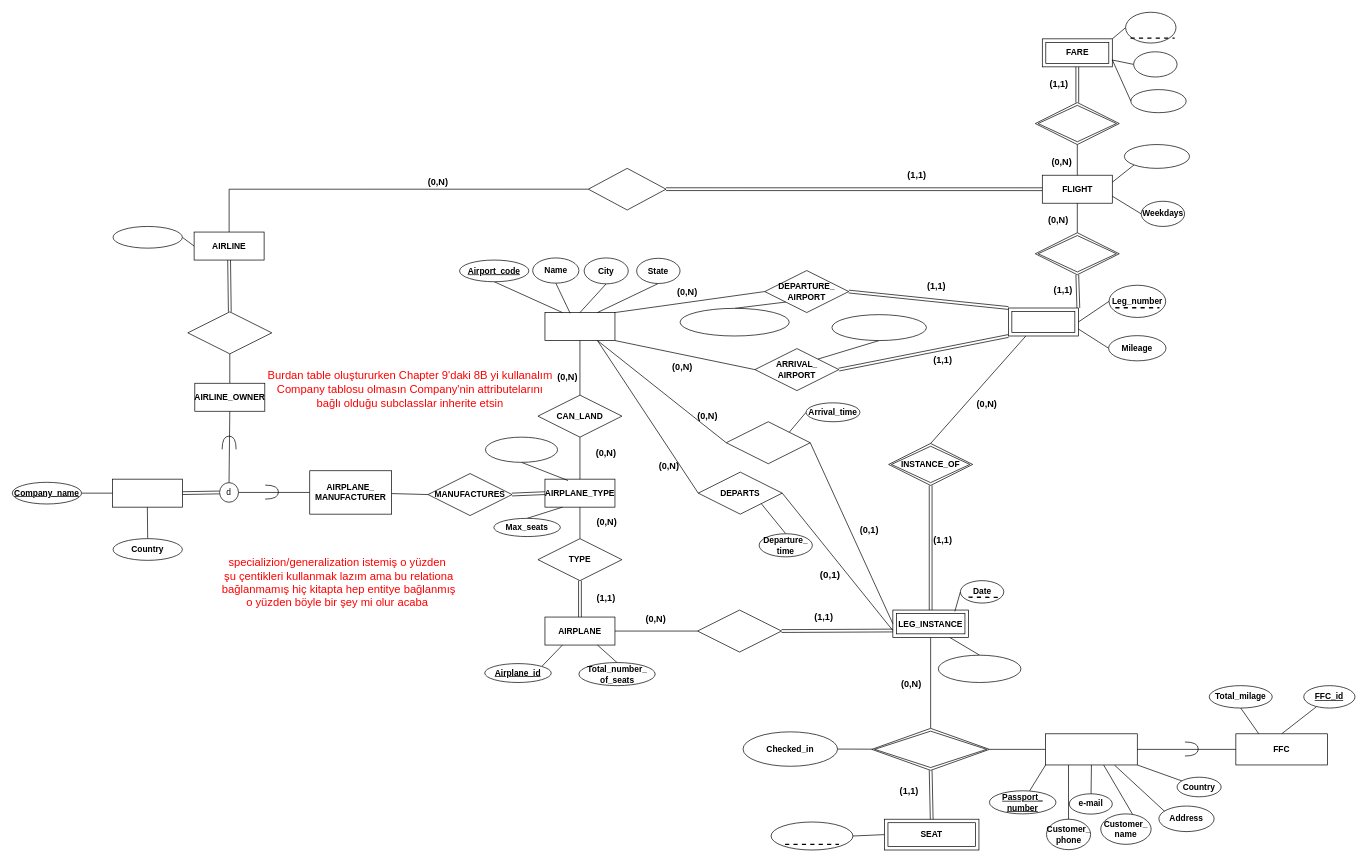
Some shapes in this 1368 by 863 pixel diagram are drawn without their labels. Each missing label, with the box of its shape:
Airline_code: (112, 226, 182, 248)
AIRPORT: (544, 312, 615, 341)
Amount: (1133, 51, 1177, 77)
ARRIVES: (726, 421, 810, 464)
ASSIGNED: (697, 609, 782, 652)
COMPANY: (112, 478, 182, 507)
CUSTOMER: (1045, 733, 1137, 765)
Fare_code: (1125, 12, 1176, 43)
FARES: (1035, 102, 1119, 145)
FLIGHT_LEG: (1008, 307, 1078, 336)
Flight_number: (1124, 144, 1190, 168)
HAS: (588, 168, 666, 210)
LEGS: (1035, 232, 1119, 275)
Number_of_ available_seats: (938, 654, 1021, 682)
OWNS: (187, 311, 272, 354)
RESERVATION: (871, 728, 989, 770)
Restrictions: (1130, 89, 1186, 113)
Scheduled_arrival_ time: (831, 314, 926, 341)
Scheduled_departure_ time: (679, 308, 789, 336)
Seat_number: (770, 821, 853, 850)
Type_name: (485, 436, 558, 462)
